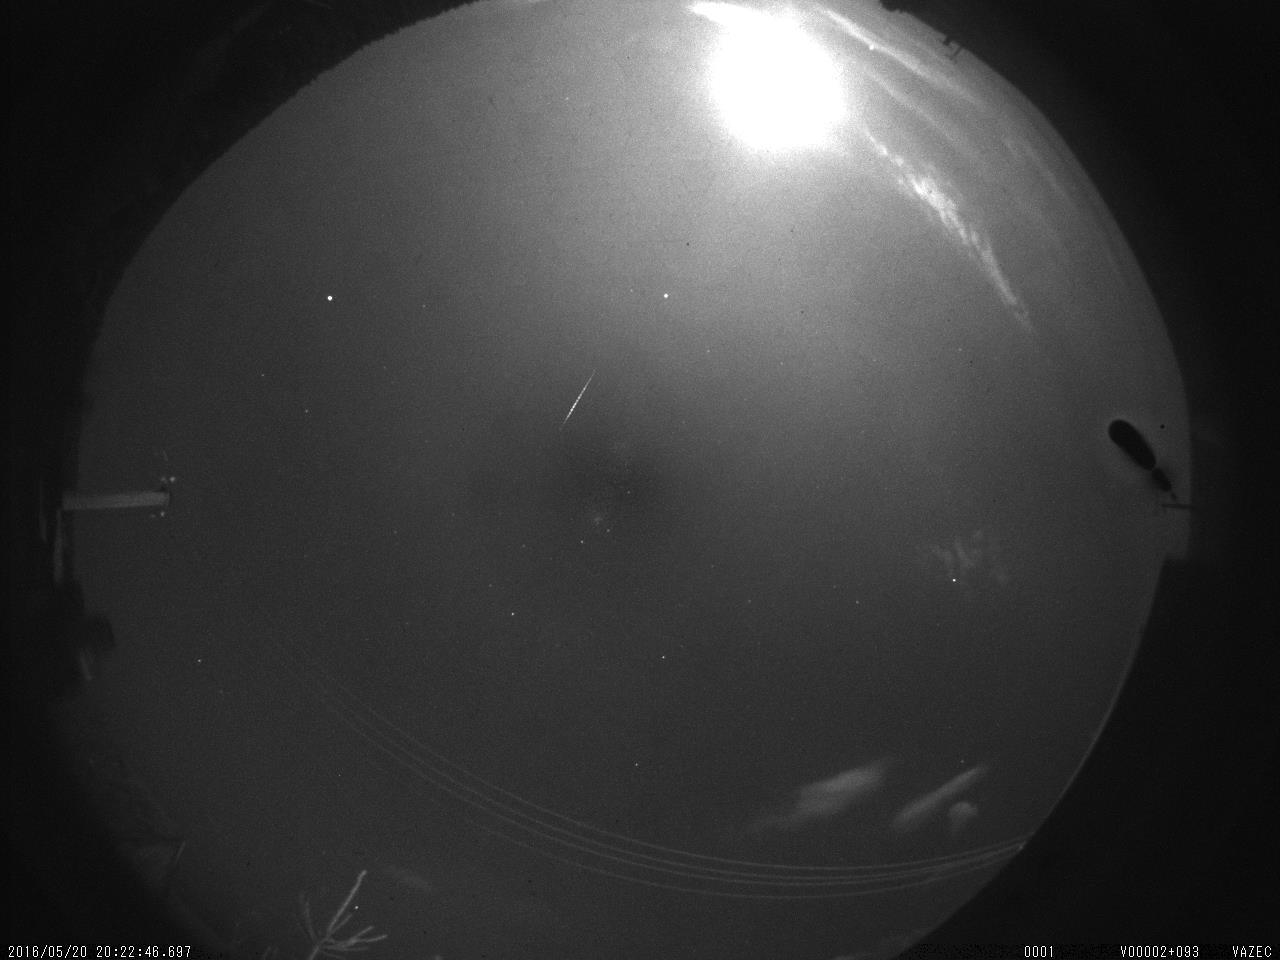Meteor: (558, 358, 598, 436)
